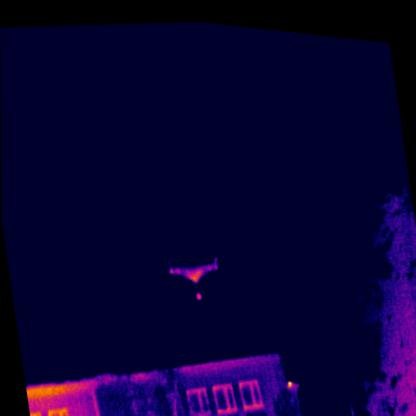drone: (166, 246, 221, 298)
